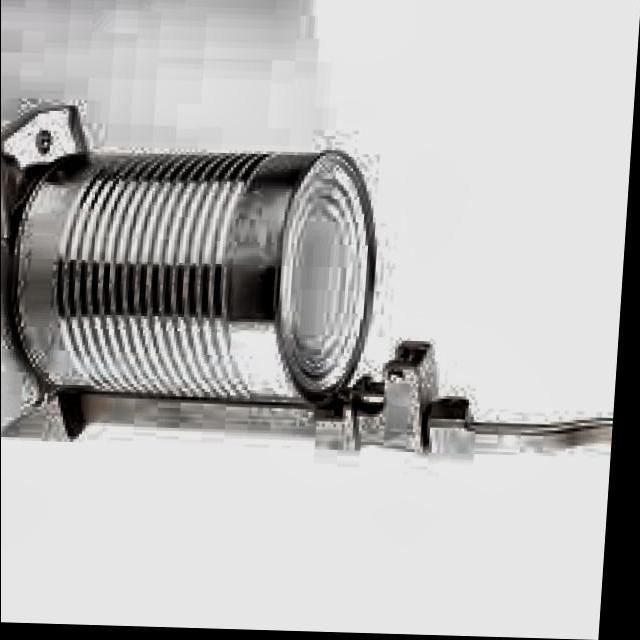litter: (6, 134, 392, 416)
